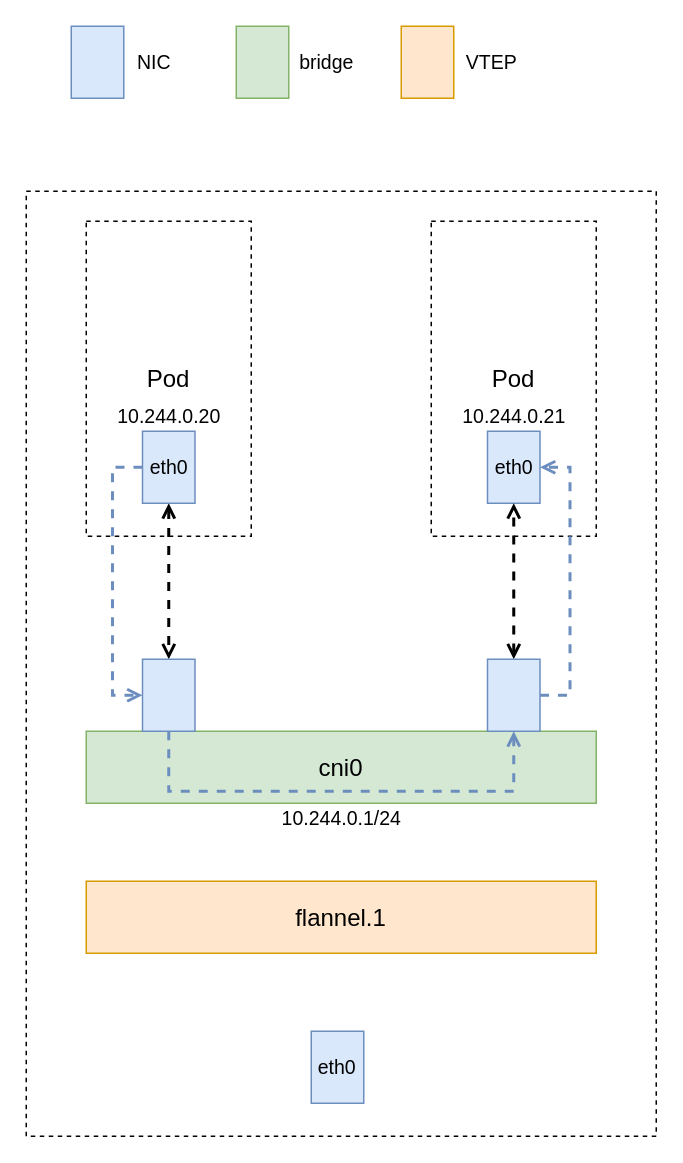
The diagram is 683 pixels wide and 1163 high, and some of its shapes have lost their labels. Here are the shapes that lost their labels. From the top down, the centre of each, then its label:
At [168,694]: "vethA".
At [513,694]: "vethB".
